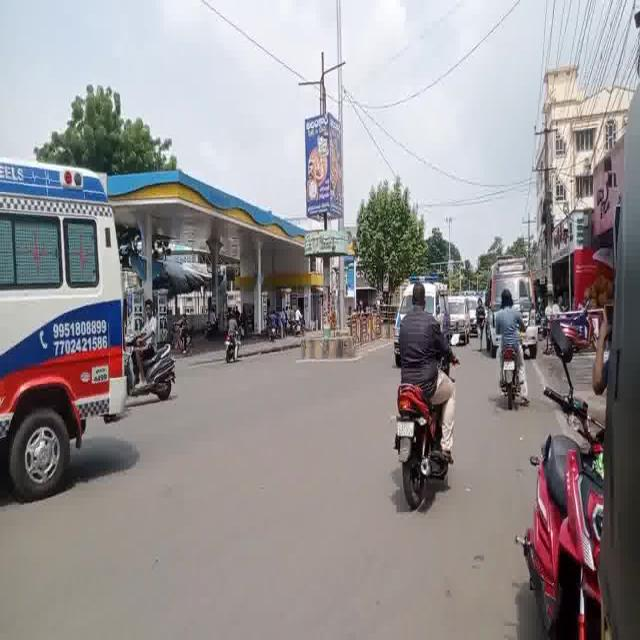ambulance: (486, 248, 538, 305), (395, 270, 444, 317), (445, 272, 468, 341)
